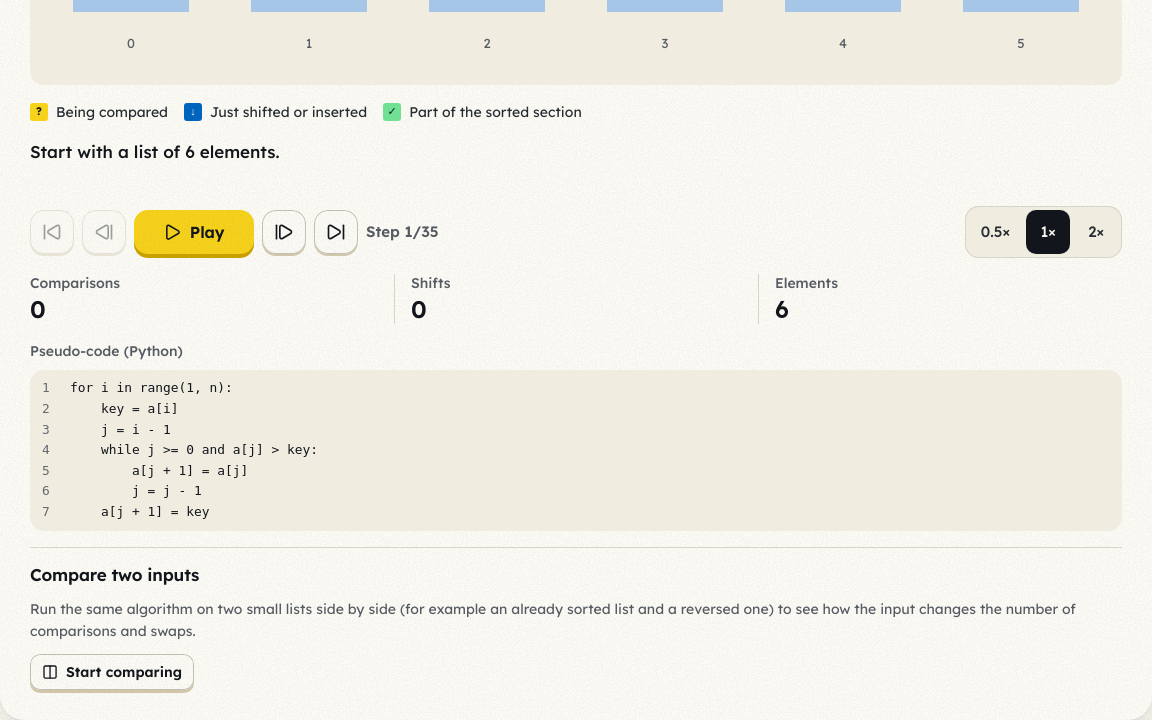
compare two inputs (spec §10.3) › learners can type their own input for a lane and use quick choices
(page scrolled)
Click the button "Start comparing".
click(112, 672)  # box [30,654,194,690]
(page scrolled)
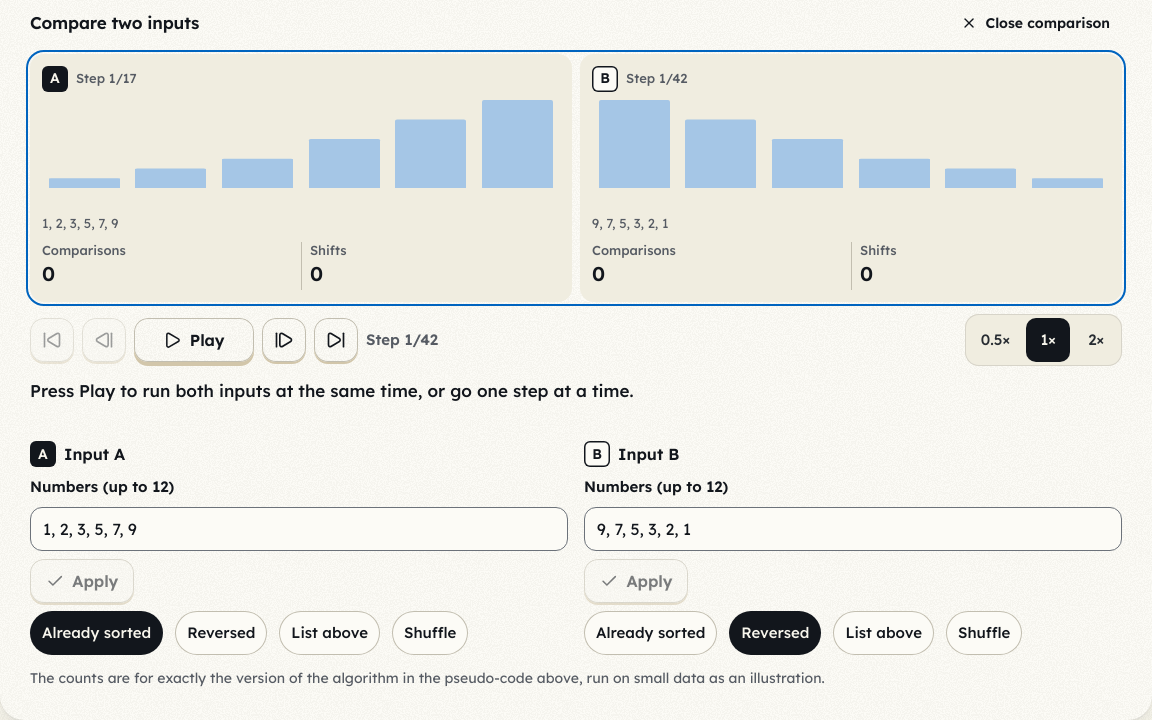
Replace the text in the field labelled "Numbers (up to 12)" below "Input A" with "3, 2, 1" at {"x": 299, "y": 529}, box [30,507,568,551]
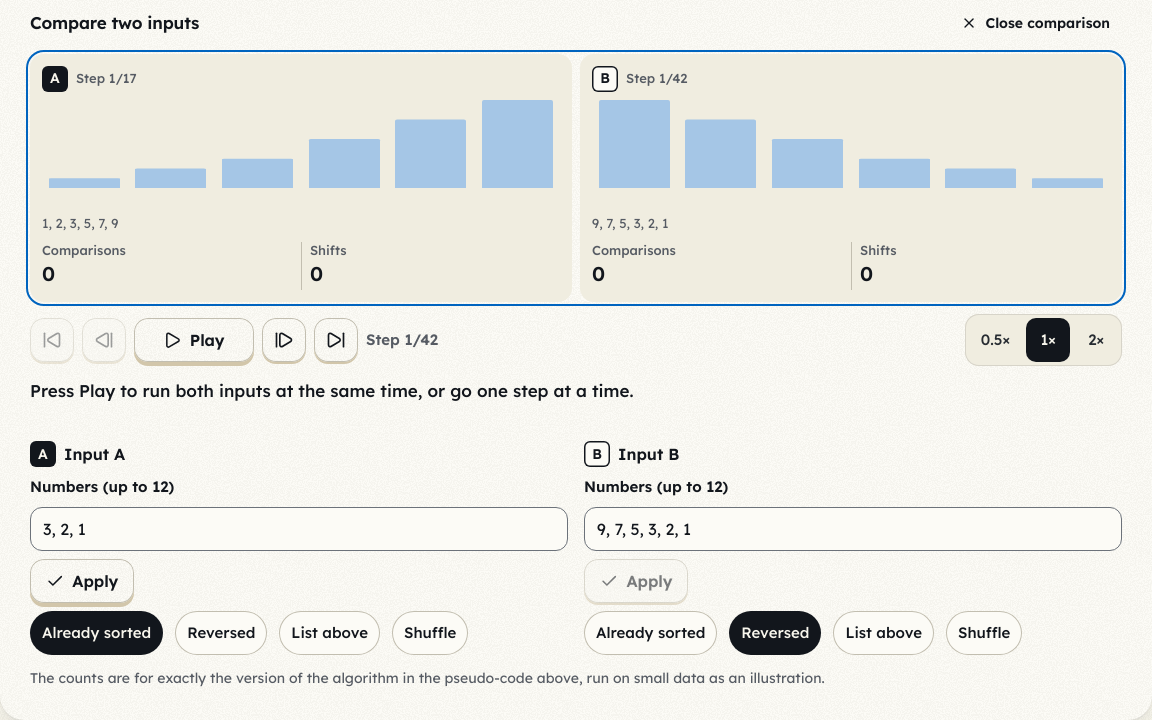
Click the button "Apply" below "Input A".
click(82, 581)  # box [30,559,134,603]
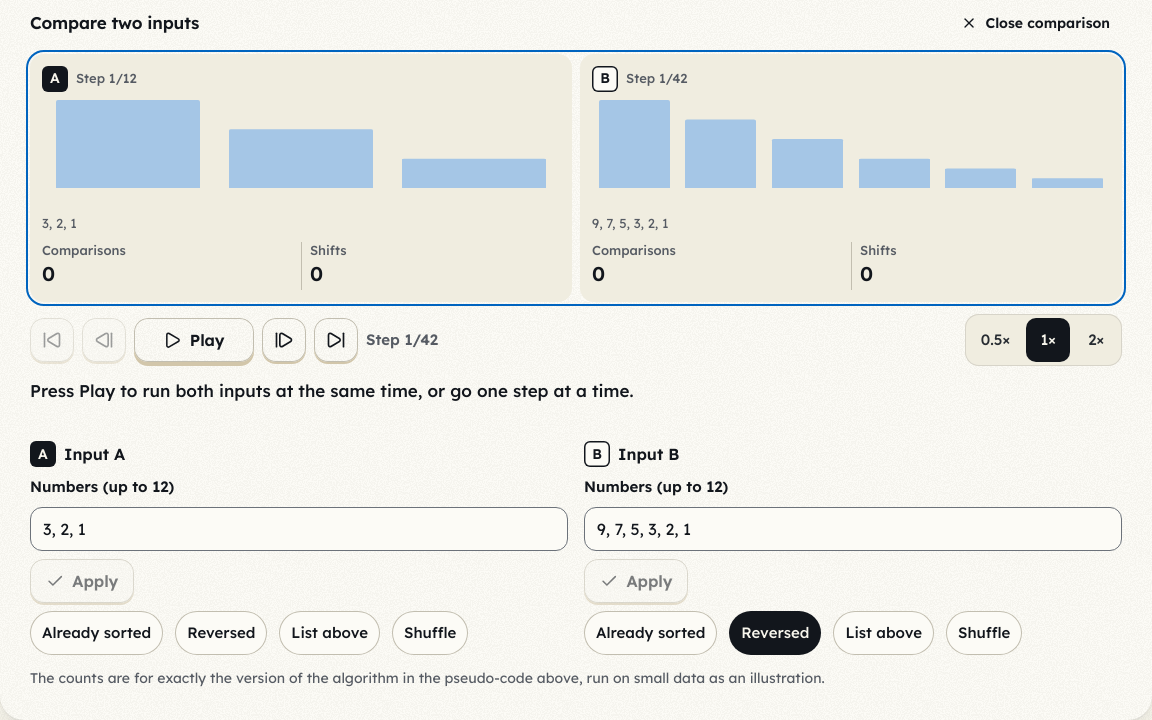
Expected: the element with class "alg-cmp-lane" shows "3, 2, 1", [30,54,572,302]
Click the button named "Last step".
click(336, 340)  # box [314,318,358,362]
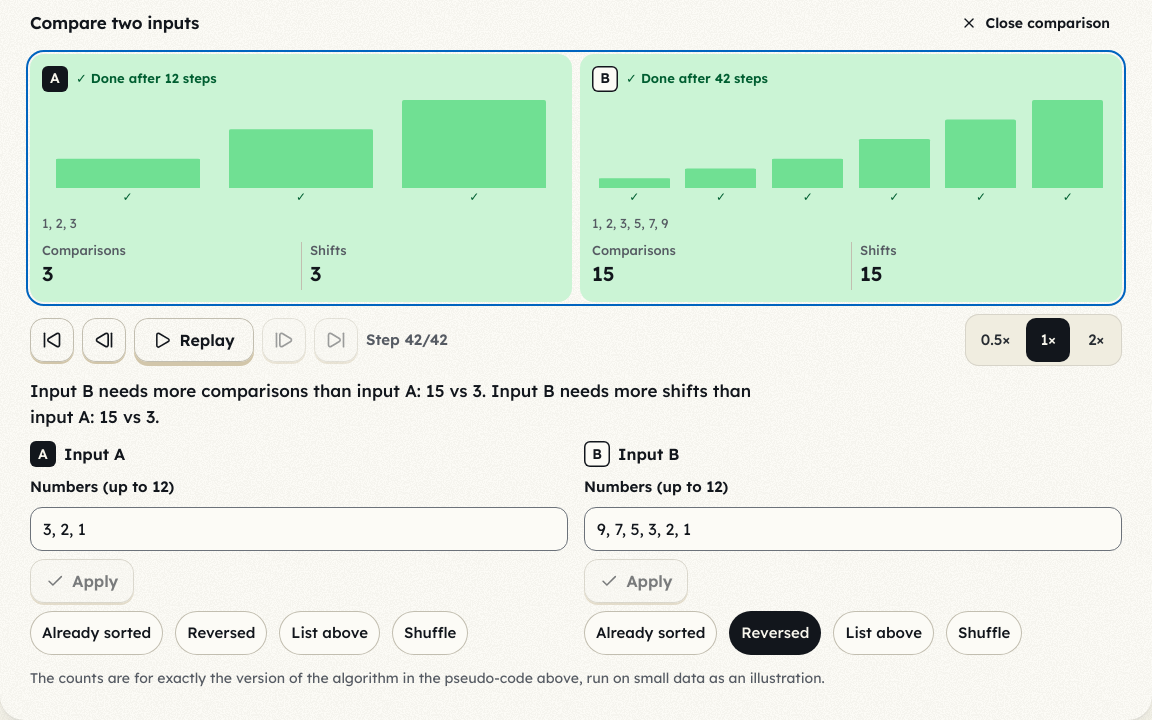
Expected: the text with class "alg-msg" shows "Input B needs more comparisons than input A: 15 vs 3. Input B needs more shifts than input A: 15 vs 3.", [30,380,751,427]
Click the 1st button "Reversed".
click(221, 633)  # box [175,611,267,655]
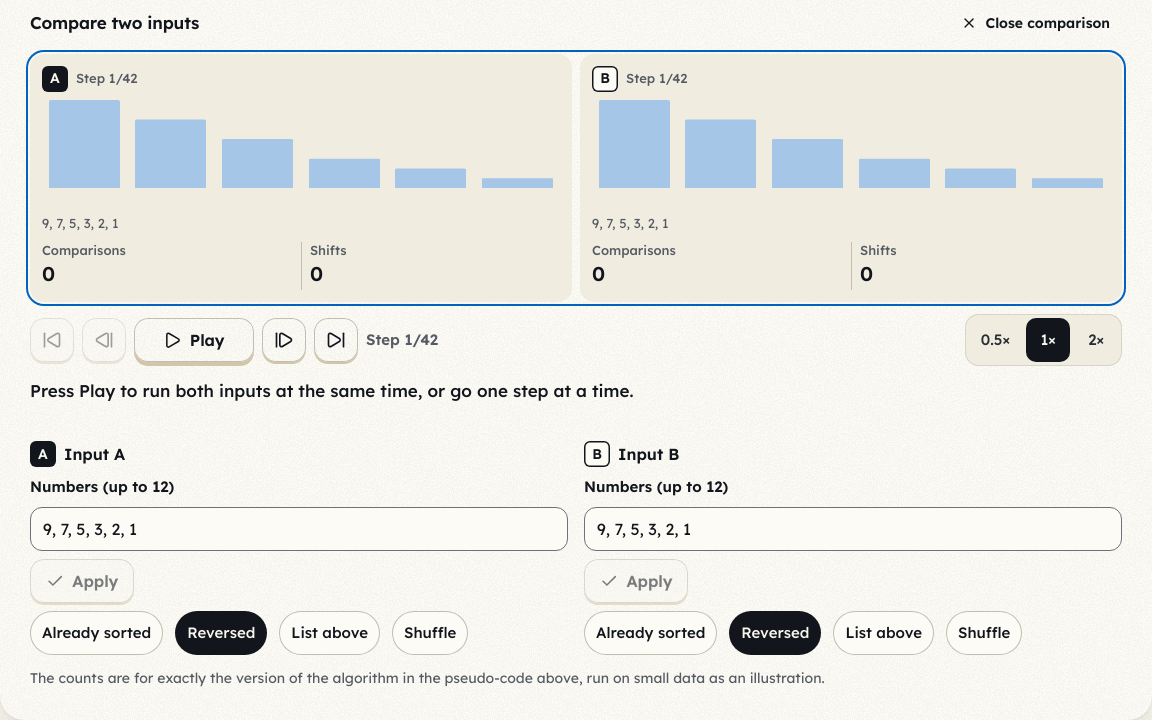
Click the button named "Last step".
click(336, 340)  # box [314,318,358,362]
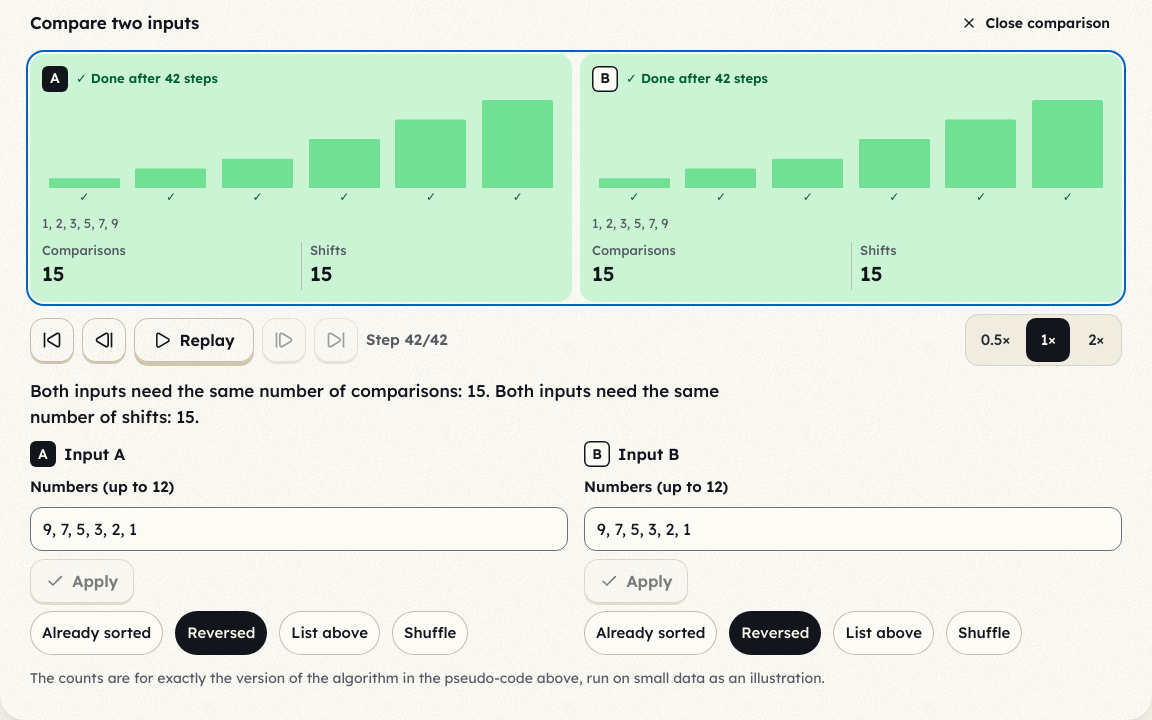
Expected: the text with class "alg-msg" shows "Both inputs need the same number of comparisons: 15. Both inputs need the same number of shifts: 15.", [30,380,719,427]
